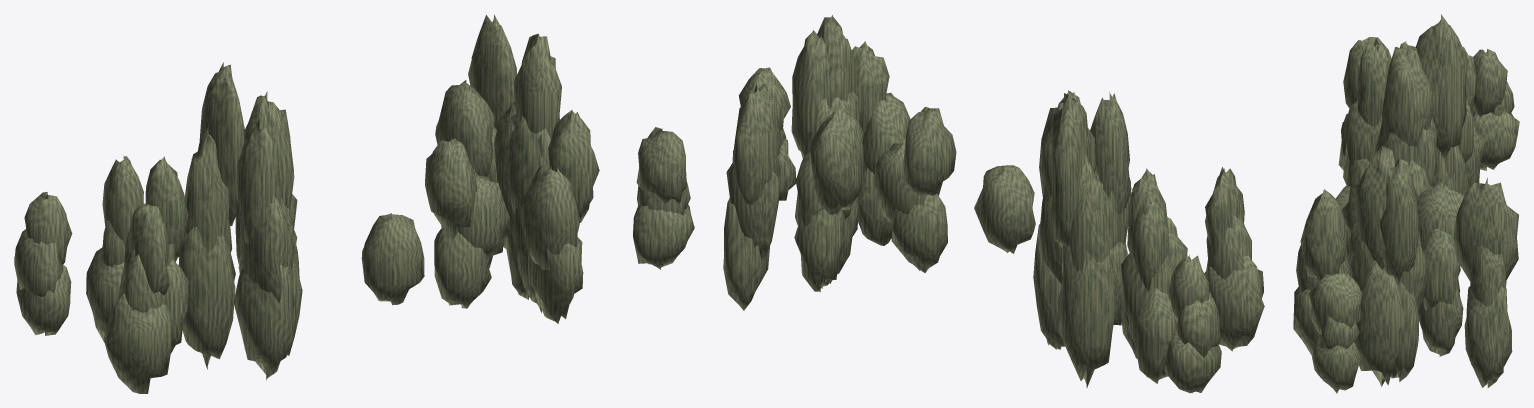
Rendered from SM_DBA_Sanctuary_Mountains.fbx.
The picture shows the model from 3 angles, left to right: view 1: azimuth 30°, elevation 25°; view 2: azimuth 150°, elevation 25°; view 3: azimuth 270°, elevation 25°; orthographic projection. The views are drawn at different scales.
Parts seen in each view (by area): view 1: SM_DBA_Sanctuary_Mountains; view 2: SM_DBA_Sanctuary_Mountains; view 3: SM_DBA_Sanctuary_Mountains.
Boxes of the visible parts, x1,y1,x2,y2 form: SM_DBA_Sanctuary_Mountains: (14,14,694,393); SM_DBA_Sanctuary_Mountains: (723,15,1264,393); SM_DBA_Sanctuary_Mountains: (1293,14,1519,393).
Size of the model in its own units: 9262 by 3637 by 4639.
